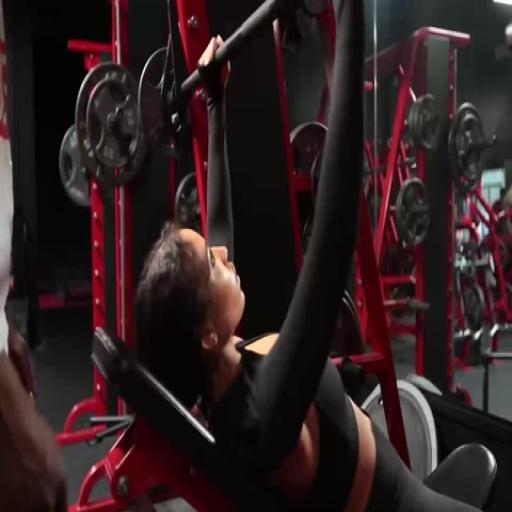exercise: (132, 0, 502, 511)
